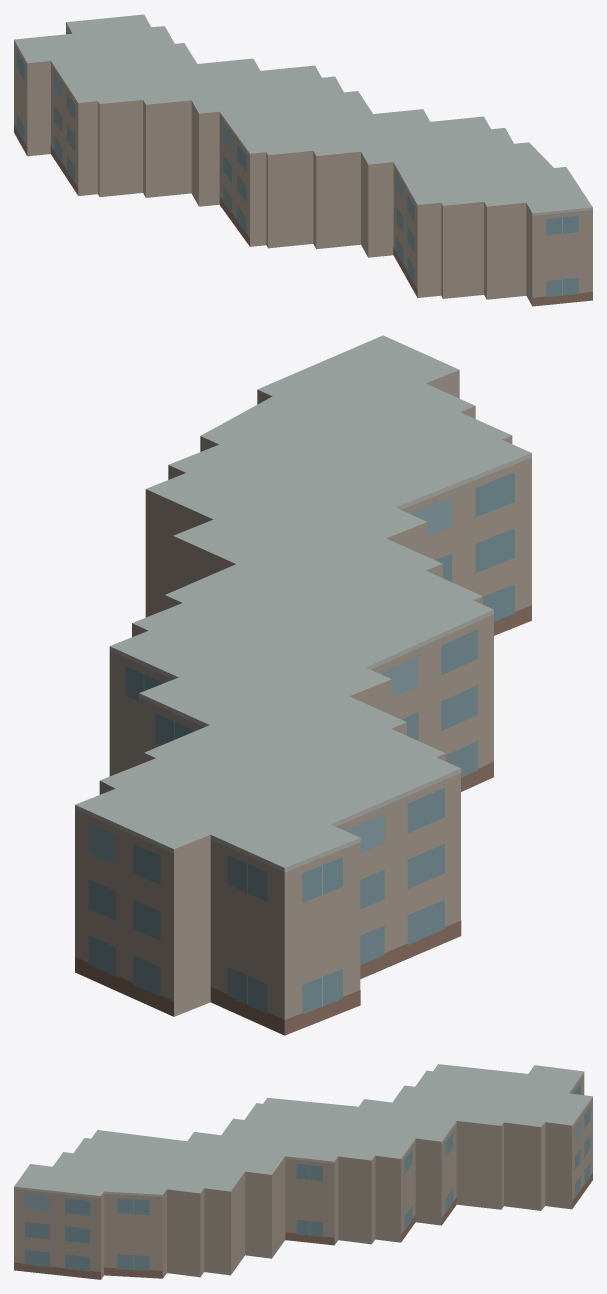
Rendered from survey-upis-32968247.glb.
The picture shows the model from 3 angles, top to bottom: view 1: azimuth 30°, elevation 25°; view 2: azimuth 150°, elevation 25°; view 3: azimuth 270°, elevation 25°; orthographic projection. The views are drawn at different scales.
Parts seen in each view (by area): view 1: survey-upis-32968247.tmp; view 2: survey-upis-32968247.tmp; view 3: survey-upis-32968247.tmp.
Boxes of the visible parts, x1,y1,x2,y2 form: survey-upis-32968247.tmp: (14, 14, 592, 306); survey-upis-32968247.tmp: (75, 335, 531, 1035); survey-upis-32968247.tmp: (14, 1064, 592, 1279).
Bounding box in the file's own units: 30.93 × 9.15 × 57.29.
